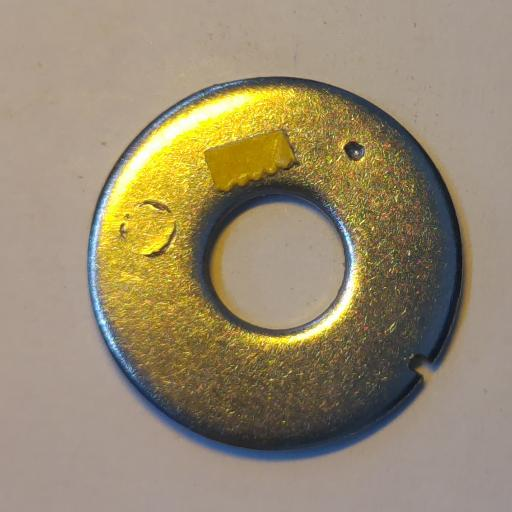burr: (407, 350, 432, 378)
